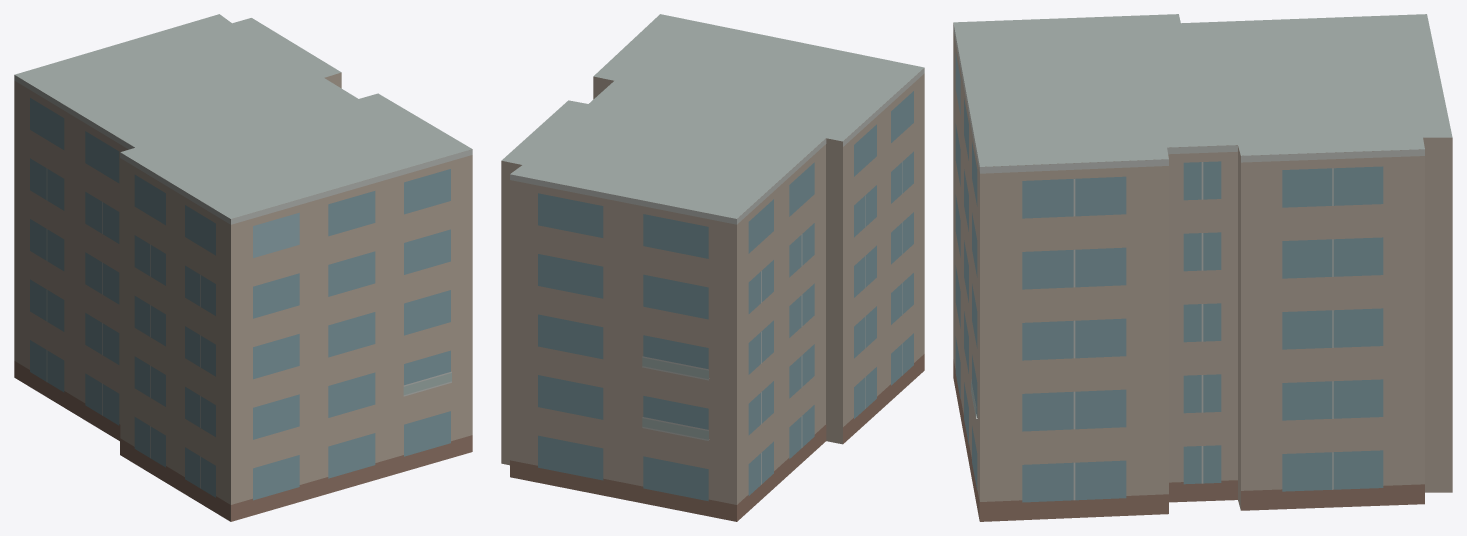
File: survey-upis-33030978.glb
The picture shows the model from 3 angles, left to right: view 1: azimuth 30°, elevation 25°; view 2: azimuth 150°, elevation 25°; view 3: azimuth 270°, elevation 25°; orthographic projection. The views are drawn at different scales.
Visible parts, largest first — view 1: survey-upis-33030978.tmp; view 2: survey-upis-33030978.tmp; view 3: survey-upis-33030978.tmp.
Boxes of the visible parts, x1=… form: survey-upis-33030978.tmp: x1=14, y1=14, x2=472, y2=521; survey-upis-33030978.tmp: x1=501, y1=14, x2=924, y2=521; survey-upis-33030978.tmp: x1=953, y1=14, x2=1452, y2=521.
Bounding box in the file's own units: 11.89 × 12.85 × 16.39.
